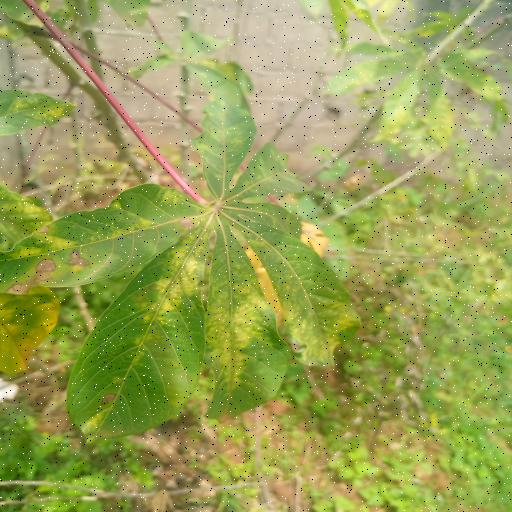Cassava_Mosaic: (4, 72, 366, 452)
